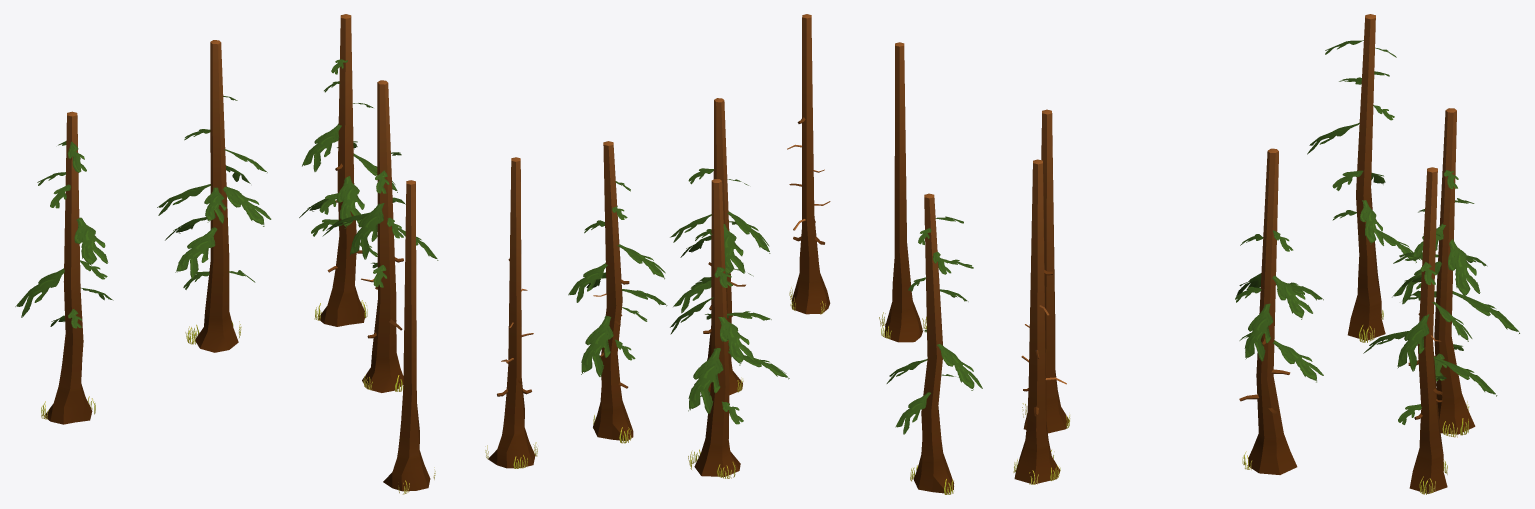
The model's file is SM_Trees.fbx.
The picture shows the model from 3 angles, left to right: view 1: azimuth 30°, elevation 25°; view 2: azimuth 150°, elevation 25°; view 3: azimuth 270°, elevation 25°; orthographic projection. The views are drawn at different scales.
Visible parts, largest first — view 1: SM_Trees_Leaves_03, SM_Trees_Leaves_04, SM_Trees_Leaves_02, SM_Trees_Leaves_01, SM_Trees_02, SM_Trees_01; view 2: SM_Trees_Leaves_03, SM_Trees_Leaves_02, SM_Trees_Leaves_04, SM_Trees_02, SM_Trees_01, SM_Trees_Leaves_01; view 3: SM_Trees_Leaves_01, SM_Trees_Leaves_03, SM_Trees_Leaves_02, SM_Trees_Leaves_04, SM_Trees_02, SM_Trees_01.
Boxes of the visible parts, bbox=[...] form: SM_Trees_Leaves_03: bbox=[157, 40, 271, 352]; SM_Trees_Leaves_04: bbox=[15, 111, 113, 424]; SM_Trees_Leaves_02: bbox=[299, 14, 397, 326]; SM_Trees_Leaves_01: bbox=[322, 80, 438, 392]; SM_Trees_02: bbox=[485, 157, 537, 468]; SM_Trees_01: bbox=[383, 180, 435, 494]; SM_Trees_Leaves_03: bbox=[670, 179, 789, 478]; SM_Trees_Leaves_02: bbox=[568, 141, 667, 443]; SM_Trees_Leaves_04: bbox=[886, 193, 982, 494]; SM_Trees_02: bbox=[787, 14, 830, 314]; SM_Trees_01: bbox=[879, 42, 926, 342]; SM_Trees_Leaves_01: bbox=[670, 98, 770, 395]; SM_Trees_Leaves_01: bbox=[1235, 148, 1323, 474]; SM_Trees_Leaves_03: bbox=[1392, 108, 1519, 437]; SM_Trees_Leaves_02: bbox=[1363, 167, 1497, 494]; SM_Trees_Leaves_04: bbox=[1307, 14, 1420, 342]; SM_Trees_02: bbox=[1013, 159, 1066, 484]; SM_Trees_01: bbox=[1022, 109, 1070, 433].
Size of the model in its own units: 23.72 by 17.41 by 24.88.
